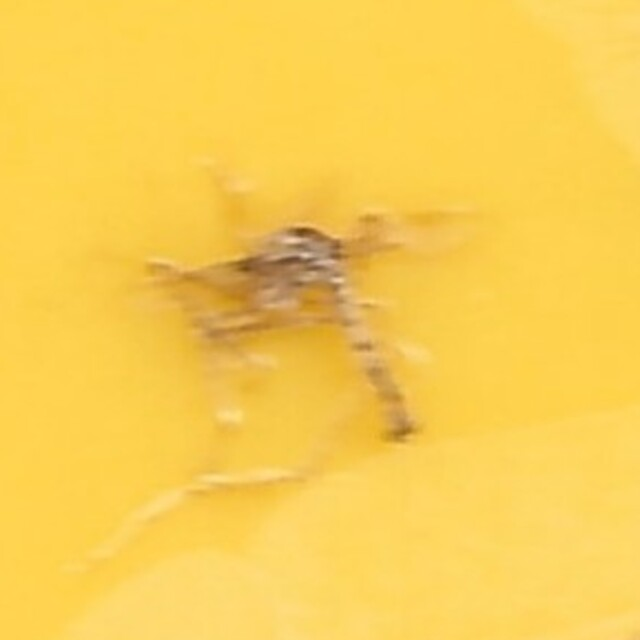Nematocera: (221, 195, 419, 445)
